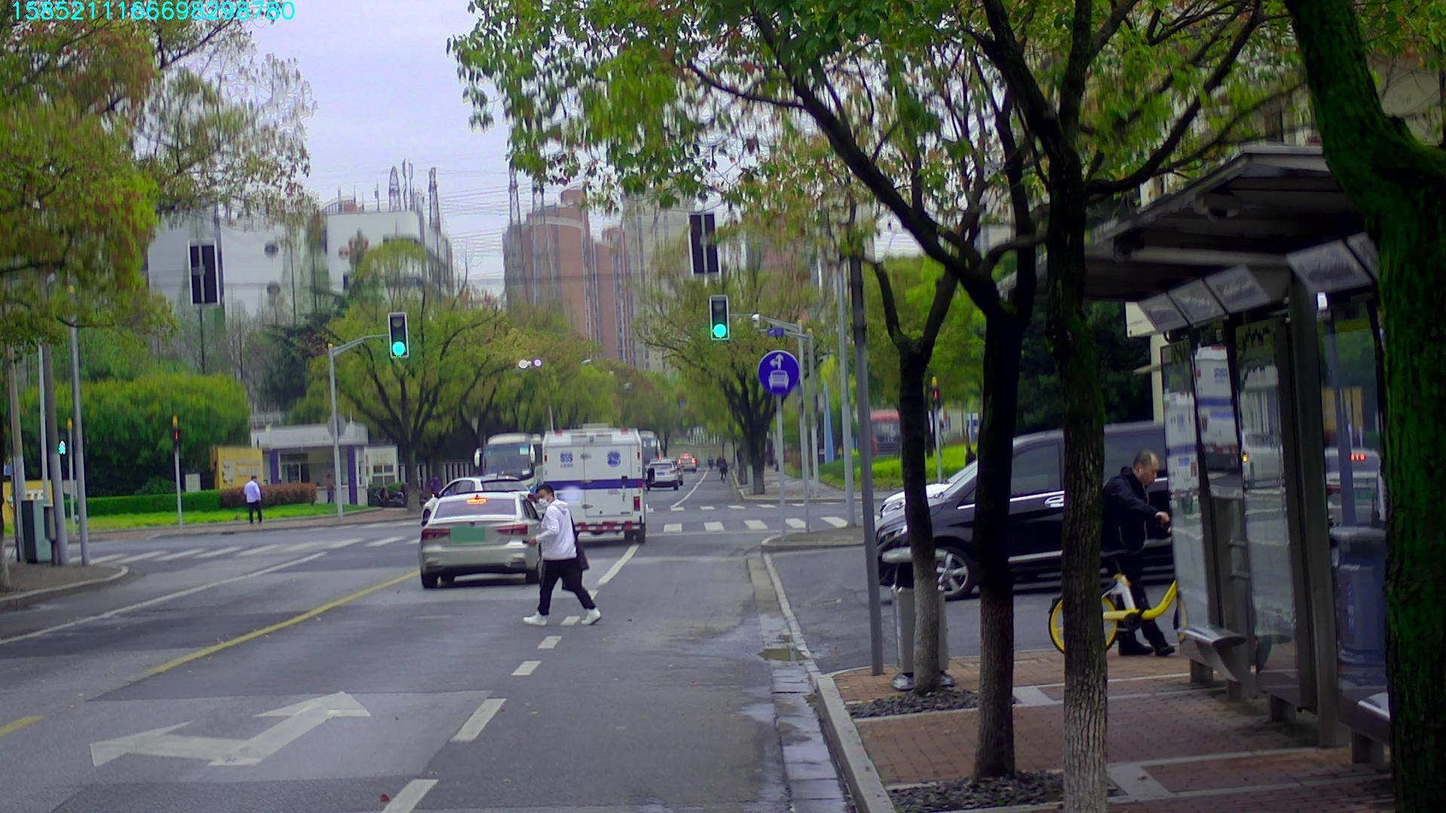green: (388, 312, 407, 357), (710, 295, 728, 339)
